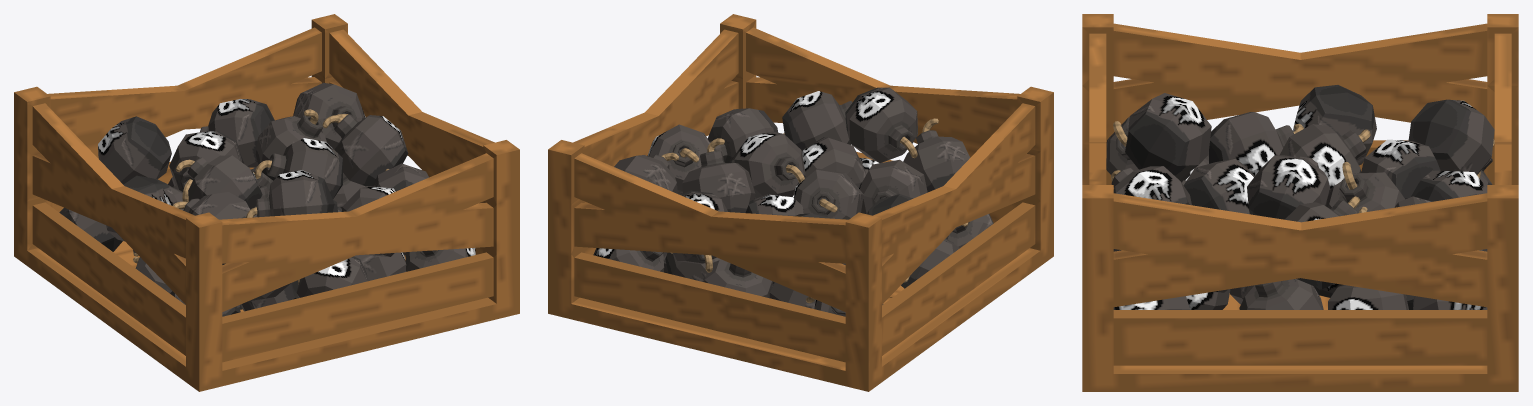
File: caja bombas (1).fbx
3 views of the same model, side by side, from view 1: azimuth 30°, elevation 25°; view 2: azimuth 150°, elevation 25°; view 3: azimuth 270°, elevation 25° (orthographic). The views are drawn at different scales.
Visible parts, largest first — view 1: cesta, Cube.028, Cube.019, Cube.031, Cube.030, Cube.027, Cube.021, Cube.020, Cube.036, Cube.034, Cube.013, Cube.024 (+8 smaller); view 2: cesta, Cube.031, Cube.027, Cube.033, Cube.034, Cube.030, Cube.015, Cube.024, Cube.028, Cube.023, Cube.022, Cube.007 (+9 smaller); view 3: cesta, Cube.031, Cube.019, Cube.027, Cube.024, Cube.025, Cube.030, Cube.022, Cube.036, Cube.034, Cube.033, Cube.017 (+7 smaller).
Boxes of the visible parts, left/top/right/bottom form: cesta: left=14, top=14, right=519, bottom=391; Cube.028: left=322, top=114, right=408, bottom=186; Cube.019: left=98, top=116, right=171, bottom=181; Cube.031: left=246, top=170, right=334, bottom=217; Cube.030: left=176, top=155, right=262, bottom=209; Cube.027: left=255, top=138, right=342, bottom=198; Cube.021: left=200, top=99, right=274, bottom=167; Cube.020: left=293, top=82, right=365, bottom=149; Cube.036: left=169, top=131, right=242, bottom=201; Cube.034: left=255, top=109, right=326, bottom=180; Cube.013: left=296, top=256, right=368, bottom=297; Cube.024: left=172, top=192, right=253, bottom=219; cesta: left=548, top=14, right=1053, bottom=391; Cube.031: left=845, top=87, right=917, bottom=163; Cube.027: left=730, top=131, right=805, bottom=199; Cube.033: left=782, top=91, right=852, bottom=151; Cube.034: left=682, top=138, right=755, bottom=212; Cube.030: left=794, top=168, right=863, bottom=219; Cube.015: left=903, top=118, right=970, bottom=192; Cube.024: left=858, top=159, right=927, bottom=214; Cube.028: left=647, top=124, right=714, bottom=195; Cube.023: left=707, top=108, right=777, bottom=162; Cube.022: left=802, top=137, right=866, bottom=187; Cube.007: left=704, top=259, right=772, bottom=298; cesta: left=1082, top=14, right=1518, bottom=391; Cube.031: left=1125, top=93, right=1211, bottom=179; Cube.019: left=1408, top=99, right=1494, bottom=178; Cube.027: left=1247, top=155, right=1330, bottom=219; Cube.024: left=1209, top=112, right=1303, bottom=175; Cube.025: left=1292, top=85, right=1376, bottom=165; Cube.030: left=1280, top=124, right=1370, bottom=188; Cube.022: left=1183, top=158, right=1254, bottom=214; Cube.036: left=1361, top=139, right=1440, bottom=199; Cube.034: left=1325, top=162, right=1404, bottom=213; Cube.033: left=1111, top=166, right=1191, bottom=205; Cube.017: left=1239, top=279, right=1323, bottom=309.
Size of the model in its own units: 71.02 by 34.74 by 71.02.
Materials: 2 (2 with a texture image).
